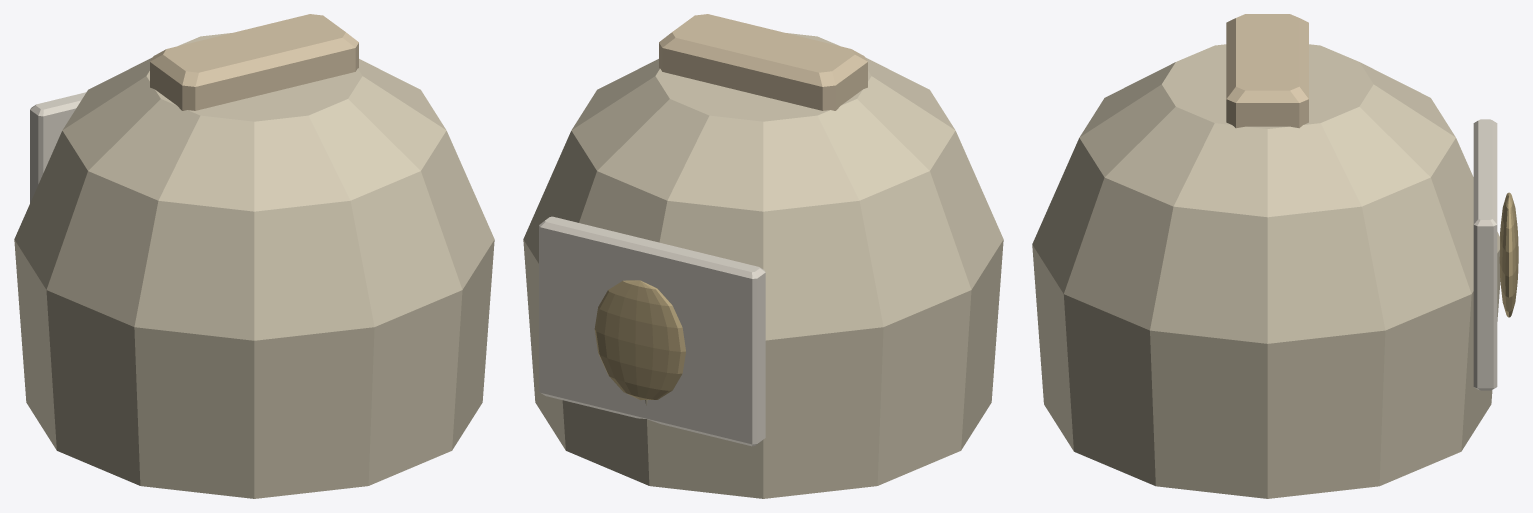
The model's file is dough.glb.
3 views of the same model, side by side, from view 1: azimuth 30°, elevation 25°; view 2: azimuth 150°, elevation 25°; view 3: azimuth 270°, elevation 25° (orthographic). The views are drawn at different scales.
Visible parts, largest first — view 1: dough; view 2: dough; view 3: dough.
Boxes of the visible parts, x1,y1,x2,y2 form: dough: (14, 14, 494, 498); dough: (523, 14, 1003, 498); dough: (1032, 14, 1518, 498).
Size of the model in its own units: 0.4 by 0.37 by 0.4132.
